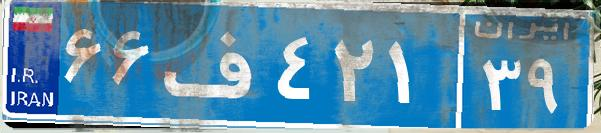1: (385, 28, 445, 110)
2: (330, 28, 385, 110)
3: (475, 38, 525, 113)
4: (273, 28, 330, 110)
6: (57, 26, 110, 107), (110, 28, 158, 105)
9: (525, 38, 570, 115)
ف: (158, 15, 273, 115)
